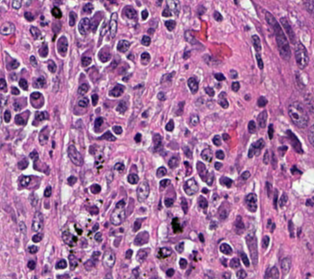nucleus: (266, 12, 290, 59), (110, 199, 124, 225), (246, 233, 257, 264), (68, 144, 82, 165), (248, 139, 264, 157), (196, 161, 208, 181), (137, 181, 149, 201), (183, 178, 197, 195), (31, 211, 42, 231), (57, 36, 67, 56), (245, 193, 256, 211), (62, 231, 76, 245), (134, 231, 148, 245), (30, 92, 43, 107), (102, 251, 114, 267), (33, 112, 47, 125), (98, 47, 110, 62), (109, 84, 124, 96), (234, 216, 244, 234), (187, 77, 198, 93), (39, 126, 48, 144), (218, 92, 228, 108), (257, 111, 267, 127), (99, 131, 115, 141), (117, 40, 130, 52), (137, 248, 149, 261), (251, 35, 260, 51), (218, 203, 227, 219), (265, 267, 278, 278), (157, 247, 171, 257), (19, 175, 30, 187), (220, 176, 232, 187), (201, 148, 211, 161), (153, 133, 161, 149), (39, 43, 48, 57), (240, 252, 249, 266), (116, 101, 127, 112), (15, 114, 26, 125), (220, 243, 231, 254), (30, 26, 40, 38), (140, 52, 150, 64), (168, 156, 178, 168), (69, 254, 77, 269), (84, 258, 94, 270), (198, 196, 207, 209), (172, 218, 180, 232), (78, 83, 88, 94), (127, 173, 138, 183), (33, 78, 45, 87), (189, 114, 198, 126), (133, 219, 142, 231), (95, 117, 103, 130), (29, 193, 37, 206), (81, 56, 91, 66), (78, 97, 88, 107), (156, 167, 166, 177), (32, 232, 42, 242), (18, 158, 27, 169), (55, 259, 66, 268), (48, 60, 56, 72), (141, 35, 150, 45), (256, 53, 262, 68), (257, 96, 266, 106), (90, 184, 100, 193), (230, 258, 239, 268), (236, 269, 246, 278), (19, 78, 27, 89), (165, 120, 173, 131), (183, 146, 191, 157), (248, 120, 255, 132), (181, 198, 187, 212), (9, 59, 18, 68), (112, 125, 121, 134), (114, 162, 123, 171), (91, 251, 100, 260), (185, 31, 193, 41), (231, 81, 239, 91), (212, 135, 220, 145), (179, 258, 187, 268), (0, 78, 6, 91), (106, 171, 113, 182), (206, 173, 213, 184), (205, 87, 213, 96), (4, 110, 10, 122), (216, 150, 224, 159), (67, 176, 76, 184), (160, 179, 169, 187), (262, 236, 268, 248), (27, 260, 35, 269), (214, 73, 224, 80), (268, 124, 273, 138), (44, 186, 51, 196), (176, 242, 183, 252), (91, 94, 97, 105), (241, 171, 249, 179), (164, 198, 172, 206), (89, 206, 97, 214), (30, 151, 37, 160), (28, 246, 37, 253), (125, 249, 132, 258), (263, 151, 268, 163), (11, 87, 19, 94), (157, 92, 164, 100), (30, 56, 36, 65), (134, 133, 140, 142), (95, 232, 101, 241), (132, 268, 138, 277), (166, 269, 173, 276), (266, 183, 270, 195), (274, 191, 277, 207), (215, 162, 221, 169), (91, 224, 97, 231), (20, 222, 24, 232), (184, 51, 189, 58), (231, 70, 236, 77), (223, 133, 228, 140), (223, 272, 230, 277), (272, 155, 275, 166), (57, 274, 68, 277), (142, 111, 147, 117), (210, 222, 215, 228), (199, 234, 203, 241), (202, 188, 207, 192)
